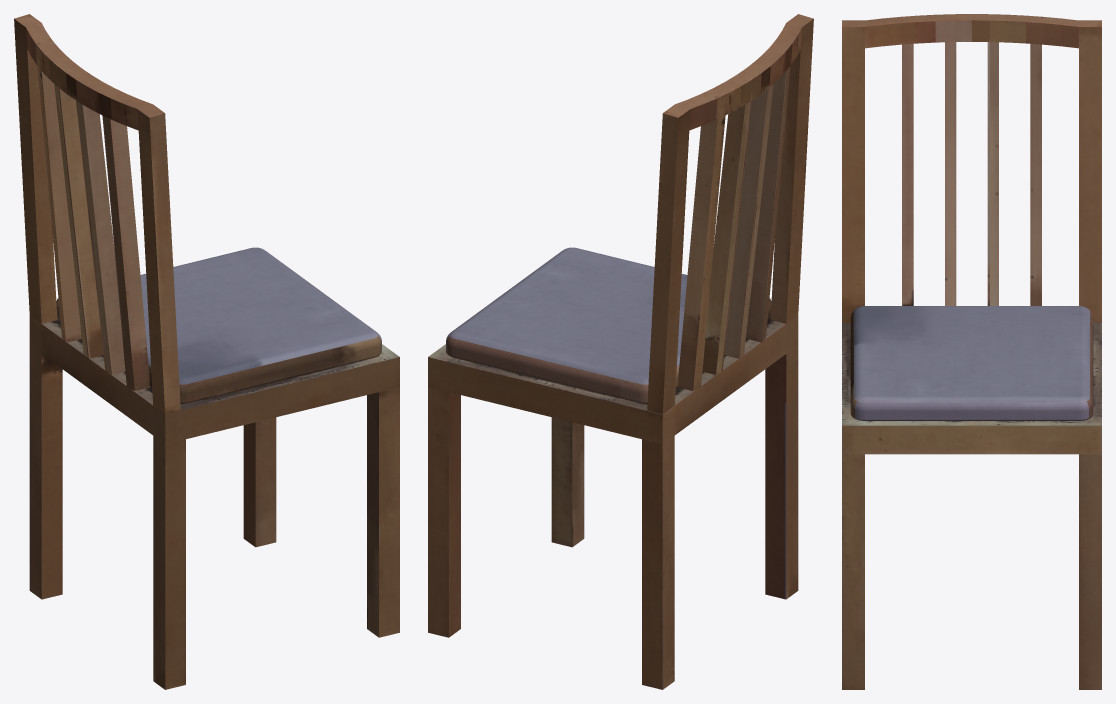
3 renders of one model, left to right at view 1: azimuth 30°, elevation 25°; view 2: azimuth 150°, elevation 25°; view 3: azimuth 270°, elevation 25°, orthographic. The views are drawn at different scales.
Visible parts, largest first — view 1: Node; view 2: Node; view 3: Node.
Part boxes in pixels (left/top/right/bottom): Node: left=14, top=14, right=399, bottom=689; Node: left=428, top=14, right=813, bottom=689; Node: left=842, top=14, right=1101, bottom=689.
Size of the model in its own units: 0.3378 by 0.7 by 0.2981.
Materials: 1 (1 with a texture image).
